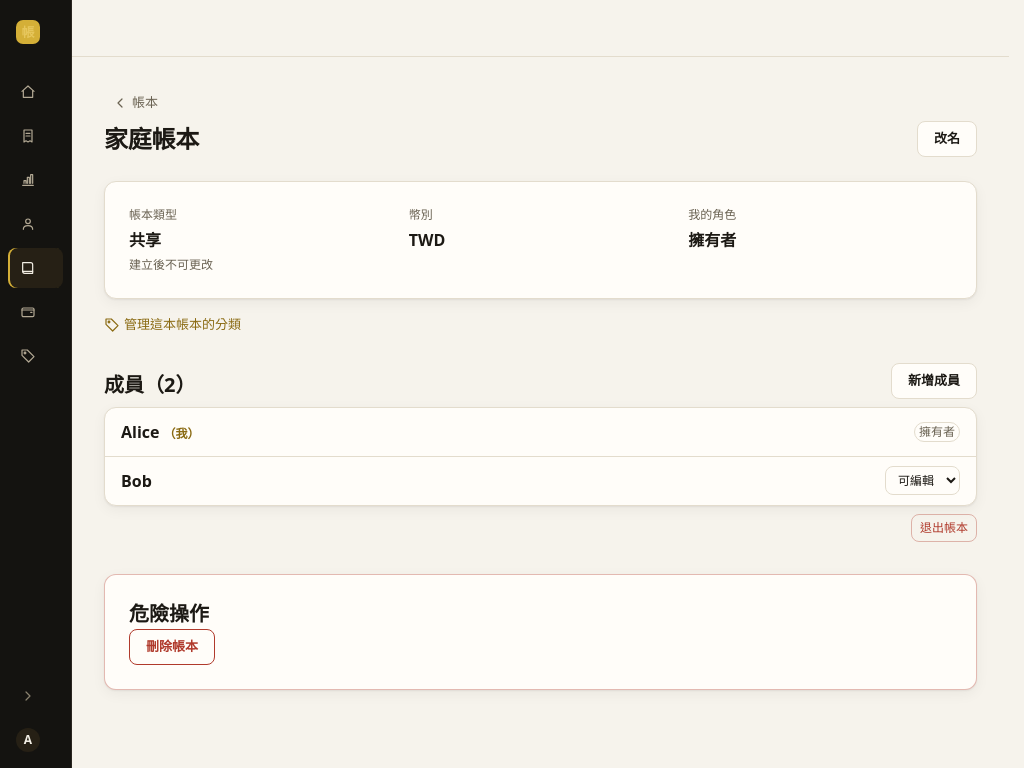
Test: Ledger members › opens the two add sources from the single add-member entry
The image size is (1024, 768).
Click the button "新增成員" at (934, 380), box 891,362 -> 977,398
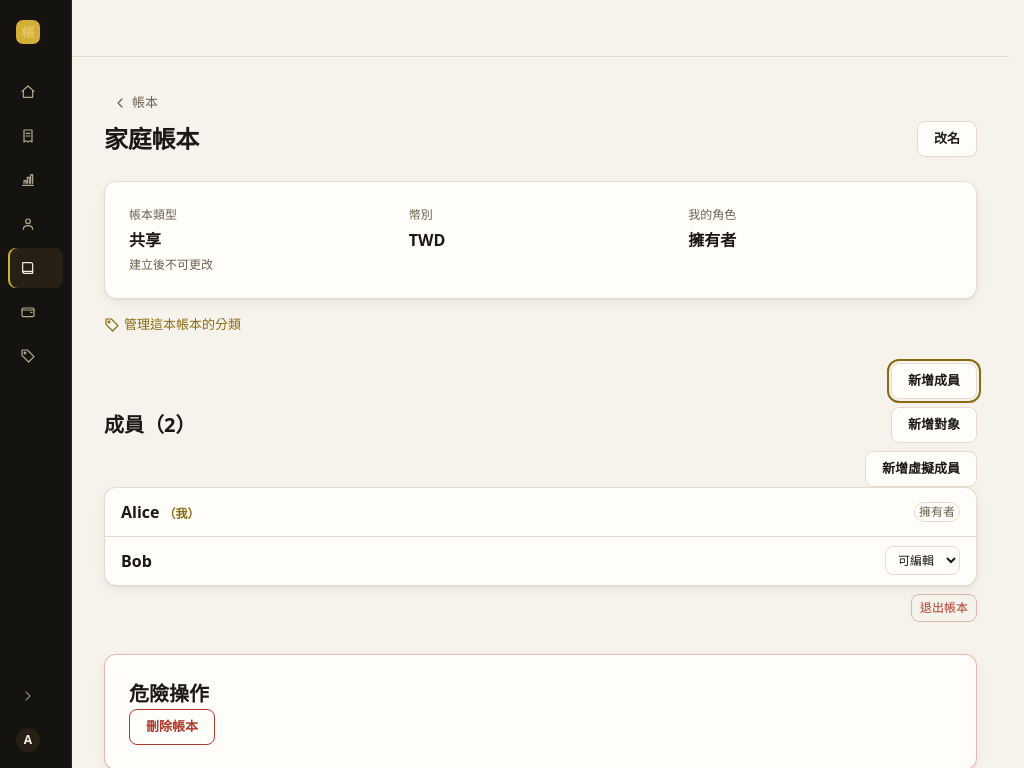
expect the button "新增對象" is shown: met, box 891,406 -> 977,442
expect the button "新增虛擬成員" is shown: met, box 865,450 -> 977,486
